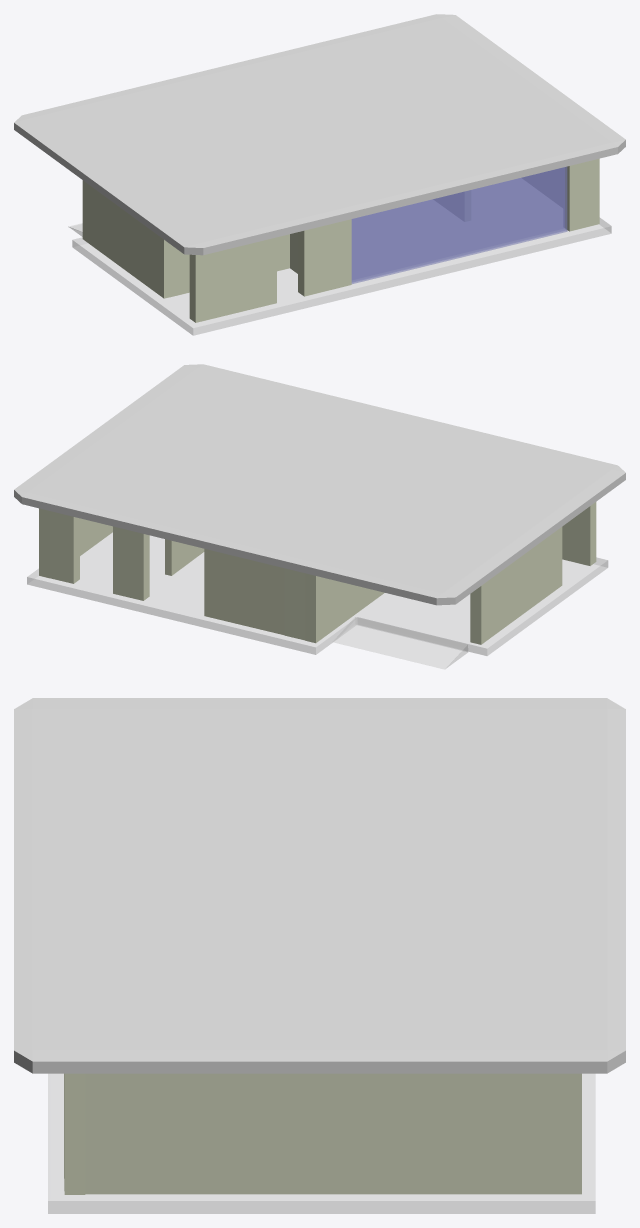
Rendered from building128.glb.
3 views of the same model, one above another, from view 1: azimuth 30°, elevation 25°; view 2: azimuth 150°, elevation 25°; view 3: azimuth 270°, elevation 25° (orthographic). The views are drawn at different scales.
Visible parts, largest first — view 1: roof, Walls, backyard-glass, floor; view 2: roof, Walls, floor, Cube; view 3: roof, Walls, floor.
Part boxes in pixels (left/top/right/bottom): roof: left=14, top=14, right=625, bottom=255; Walls: left=82, top=158, right=599, bottom=322; backyard-glass: left=351, top=166, right=567, bottom=283; floor: left=72, top=218, right=611, bottom=335; roof: left=14, top=364, right=625, bottom=605; Walls: left=39, top=502, right=596, bottom=644; floor: left=27, top=532, right=608, bottom=655; Cube: left=333, top=617, right=468, bottom=669; roof: left=14, top=698, right=625, bottom=1073; Walls: left=64, top=1073, right=581, bottom=1194; floor: left=48, top=1073, right=595, bottom=1213.
Bounding box in the file's own units: 15.42 × 3.22 × 10.97.
